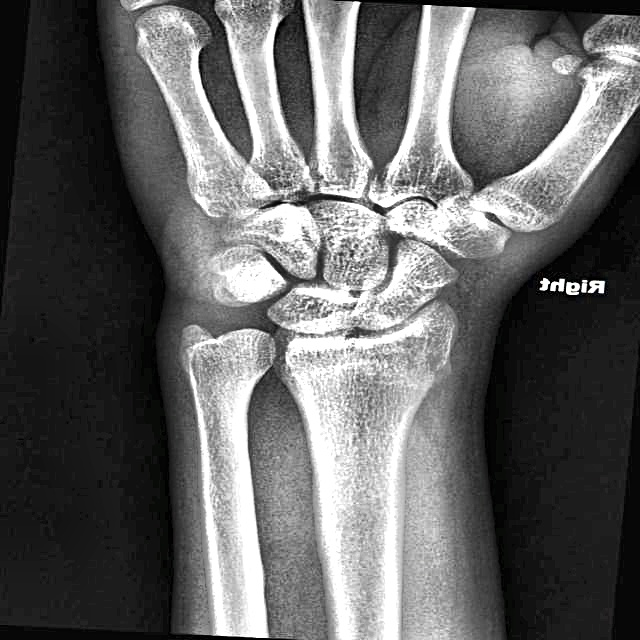Healthy: (104, 21, 593, 583)
